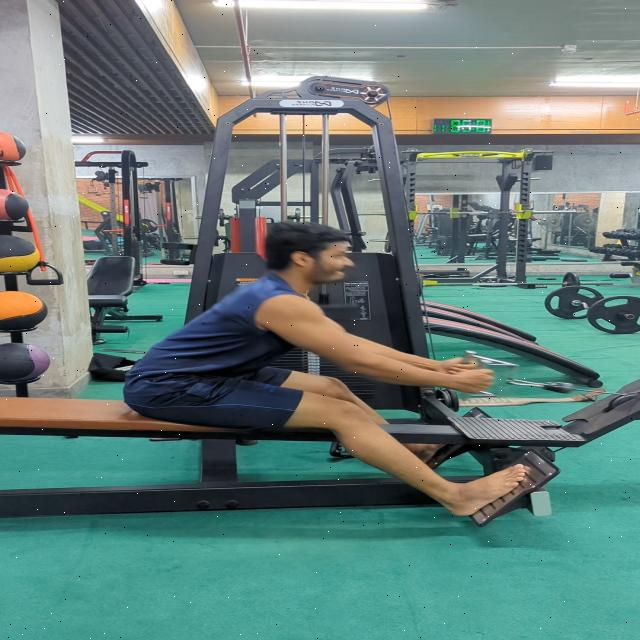Normal_RowingMachineExercise: (122, 219, 533, 520)
